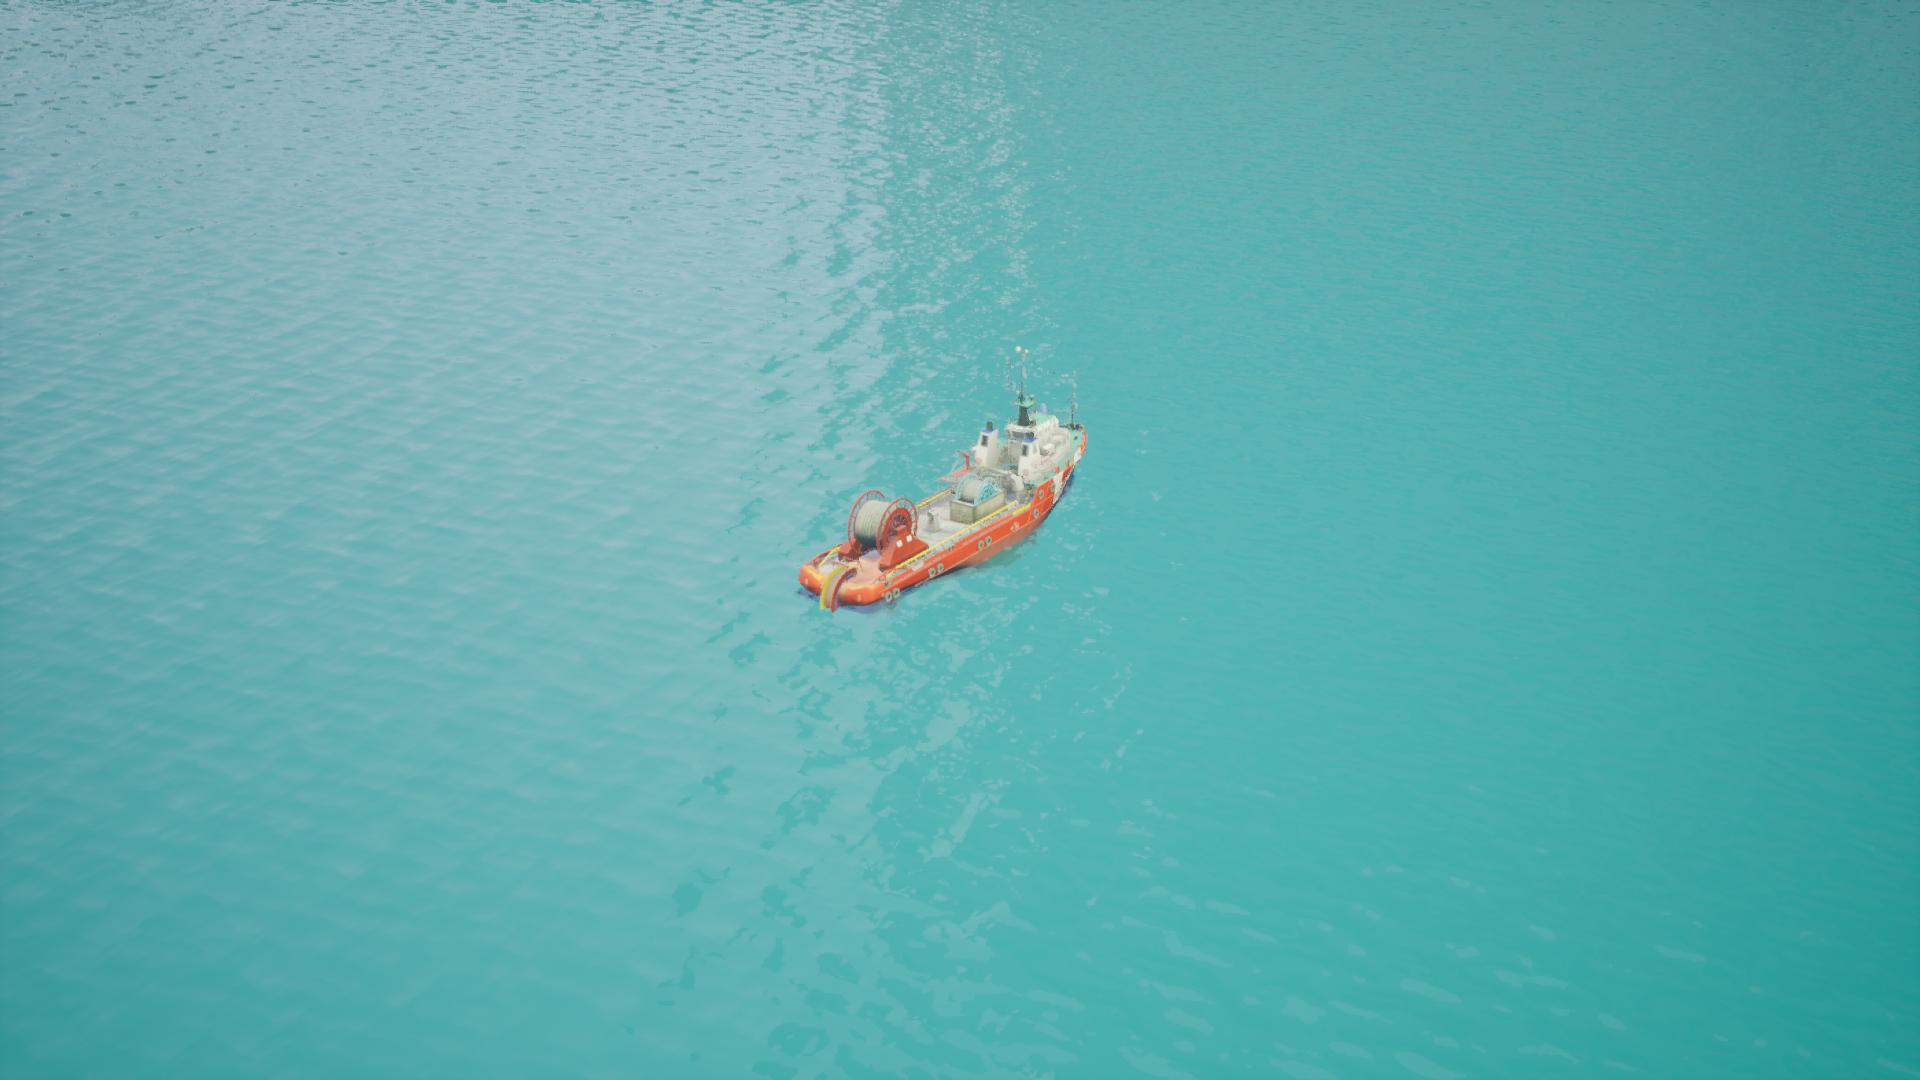Tug Boat: (843, 410, 1087, 611)
